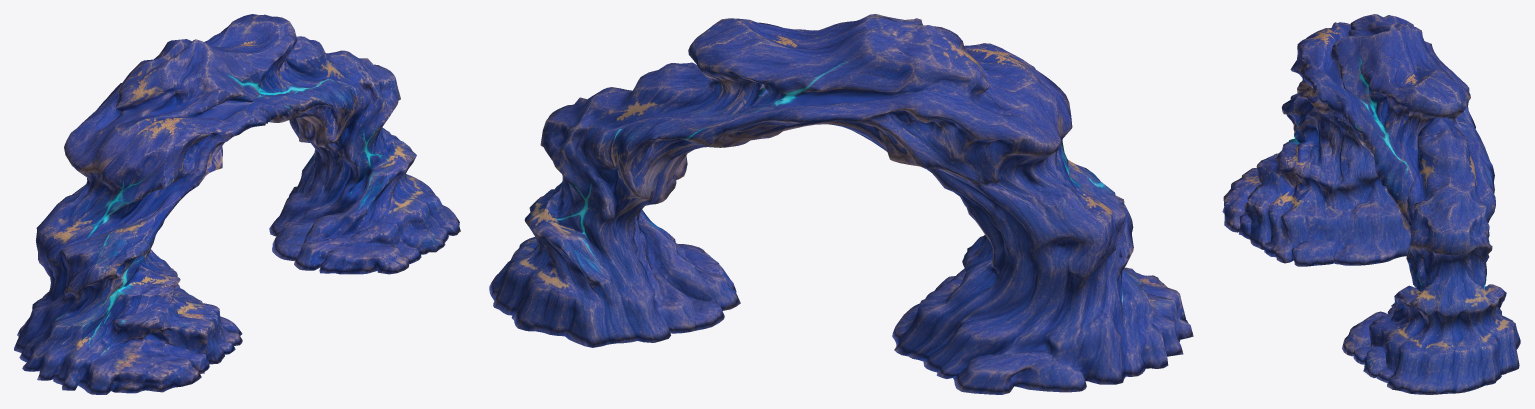
Rendered from arch.fbx.
The picture shows the model from 3 angles, left to right: view 1: azimuth 30°, elevation 25°; view 2: azimuth 150°, elevation 25°; view 3: azimuth 270°, elevation 25°; orthographic projection. The views are drawn at different scales.
Parts seen in each view (by area): view 1: arch; view 2: arch; view 3: arch.
Part boxes in pixels (left/top/right/bottom): arch: left=14, top=14, right=460, bottom=394; arch: left=489, top=14, right=1193, bottom=394; arch: left=1222, top=14, right=1520, bottom=394.
Size of the model in its own units: 29.46 by 15 by 16.76.
